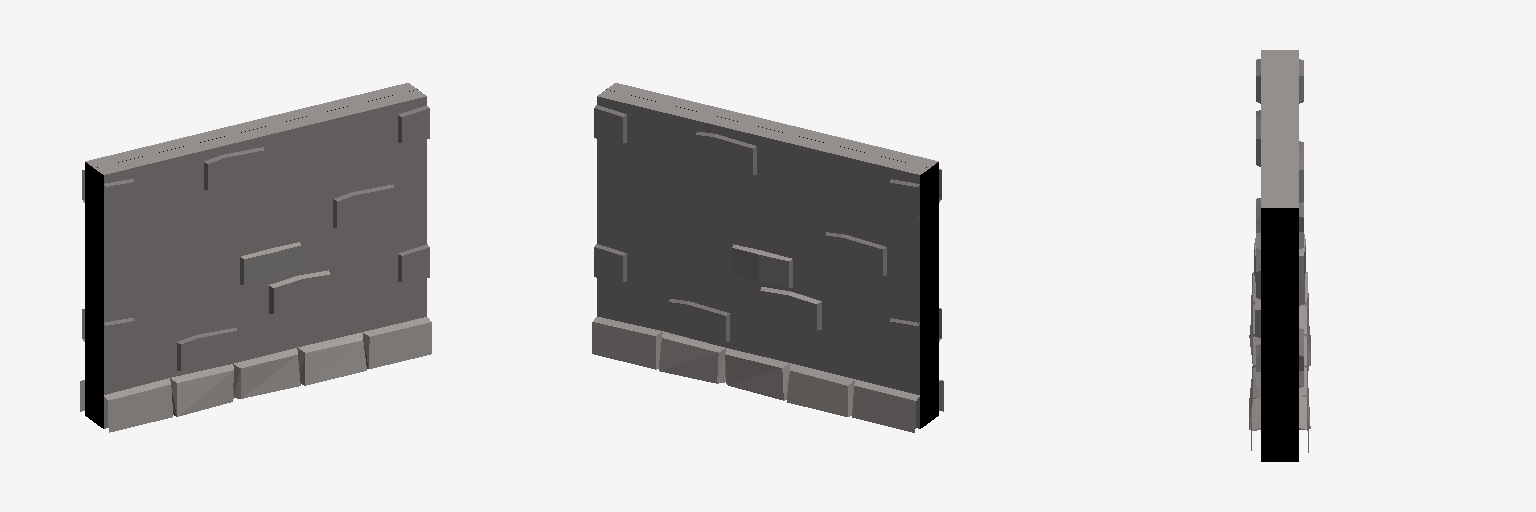
3 views of the same model, side by side, from view 1: azimuth 30°, elevation 25°; view 2: azimuth 150°, elevation 25°; view 3: azimuth 270°, elevation 25° (orthographic).
Visible parts, largest first — view 1: dungeon_wall.001, dungeon_wall; view 2: dungeon_wall, dungeon_wall.001; view 3: dungeon_wall, dungeon_wall.001.
Boxes of the visible parts, <box> form: dungeon_wall.001: <box>94,90,431,432</box>; dungeon_wall: <box>80,83,417,421</box>; dungeon_wall: <box>592,90,929,432</box>; dungeon_wall.001: <box>606,83,943,421</box>; dungeon_wall: <box>1280,50,1310,461</box>; dungeon_wall.001: <box>1249,50,1279,461</box>.
Bounding box in the file's own units: 4 × 3 × 0.6566.
Materials: 2 (1 with a texture image).